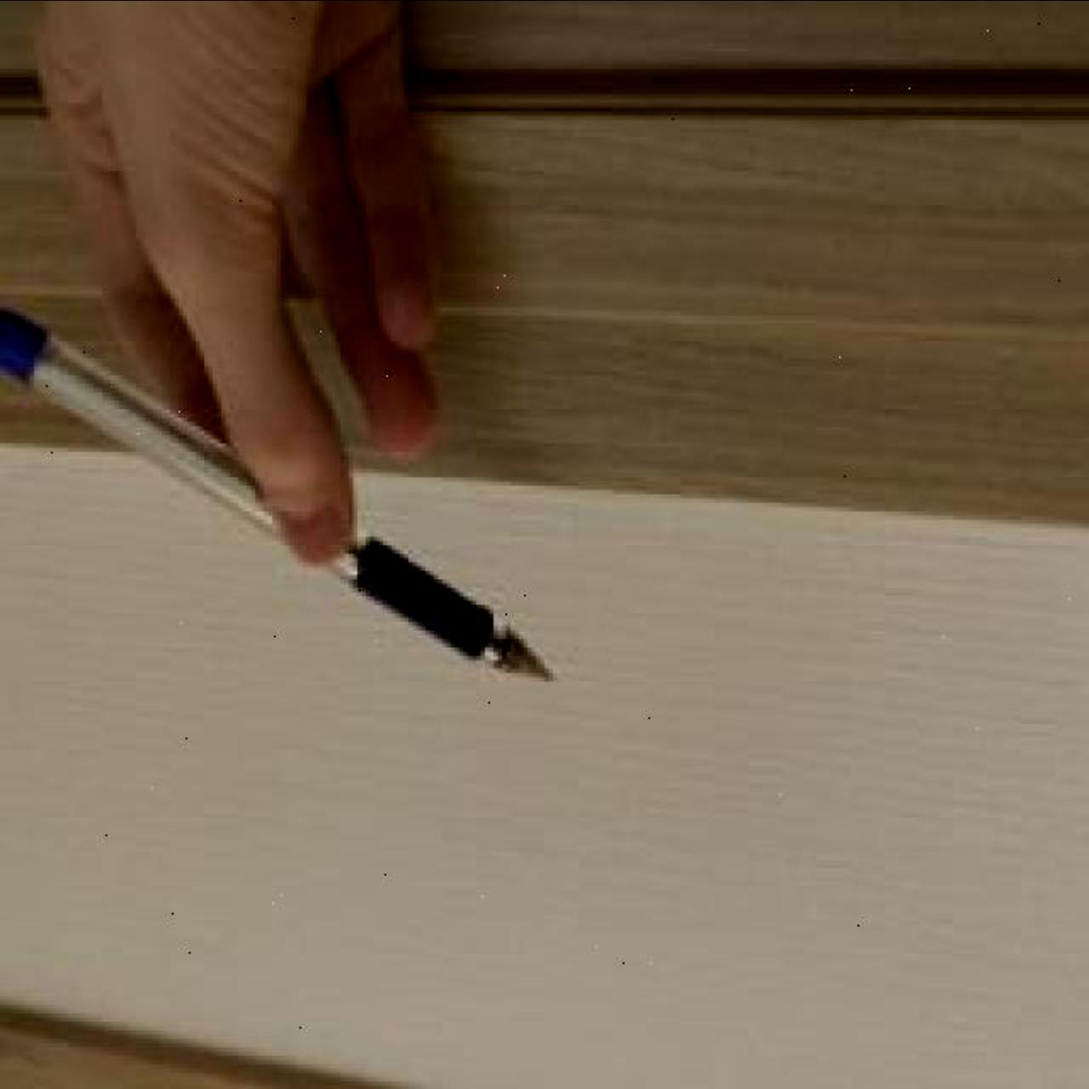pen: (0, 306, 558, 689)
